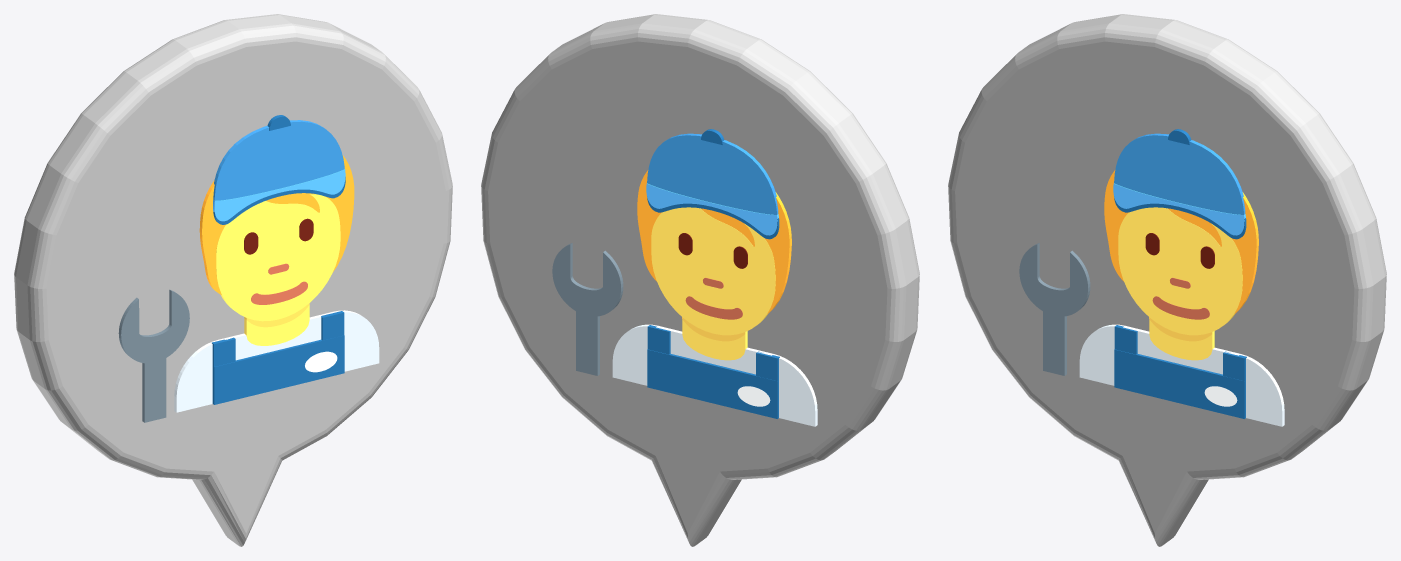
Rendered from mechanic.glb.
The picture shows the model from 3 angles, left to right: view 1: azimuth 30°, elevation 25°; view 2: azimuth 150°, elevation 25°; view 3: azimuth 330°, elevation 25°; orthographic projection.
Visible parts, largest first — view 1: EmotionBubble; view 2: EmotionBubble; view 3: EmotionBubble.
Part boxes in pixels (bbox=[...]): EmotionBubble: bbox=[14, 14, 452, 546]; EmotionBubble: bbox=[481, 14, 919, 546]; EmotionBubble: bbox=[948, 14, 1386, 546].
Size of the model in its own units: 5.29 by 6.16 by 0.772.
